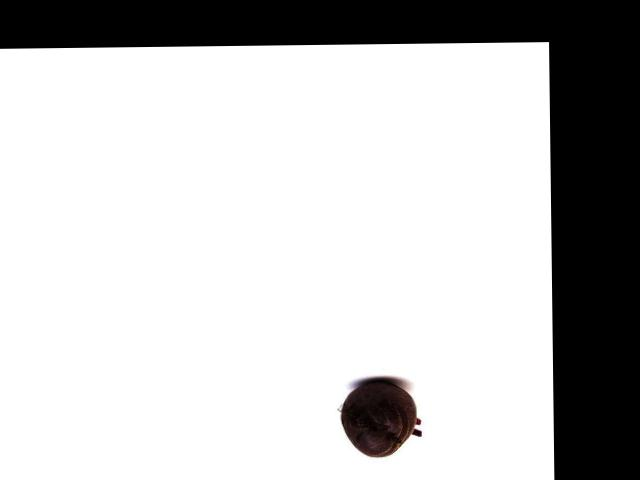beet: (339, 379, 420, 458)
